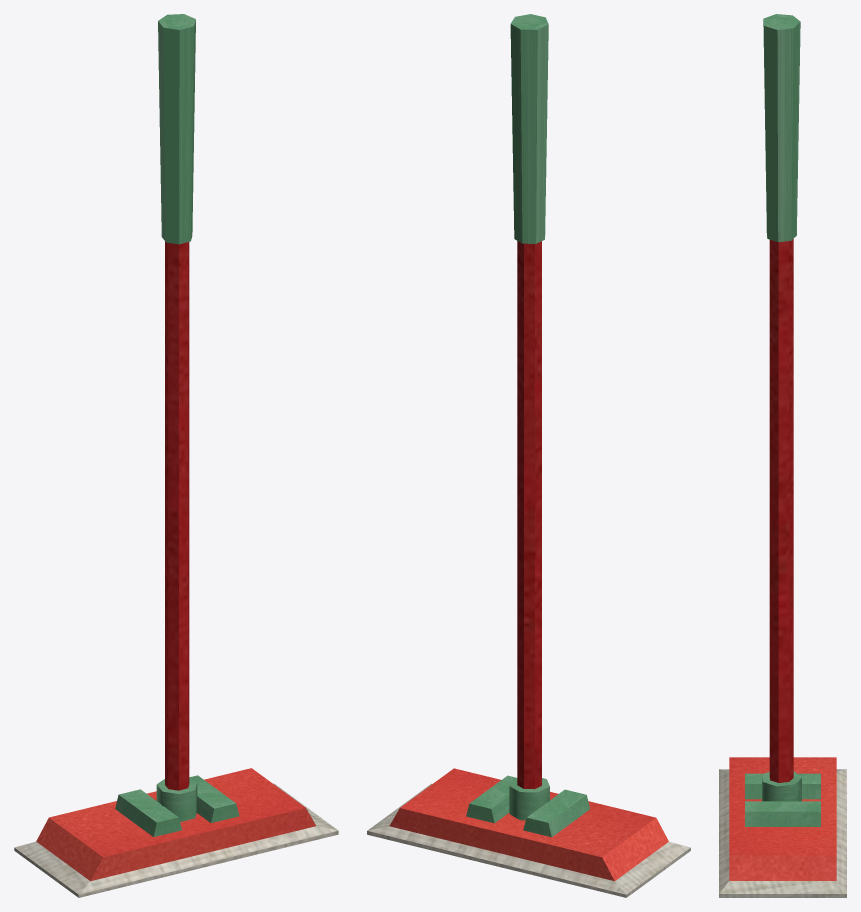
File: mop.FBX
The picture shows the model from 3 angles, left to right: view 1: azimuth 30°, elevation 25°; view 2: azimuth 150°, elevation 25°; view 3: azimuth 270°, elevation 25°; orthographic projection.
Visible parts, largest first — view 1: Cylinder001, Object004, Object002, Box001, Object003, Object001; view 2: Cylinder001, Object004, Object002, Box001, Object003, Object001; view 3: Cylinder001, Object004, Object002, Box001, Object003, Object001.
Part boxes in pixels (x1=…): Cylinder001: x1=165, y1=241, x2=189, y2=790; Object004: x1=36, y1=768, x2=315, y2=881; Object002: x1=158, y1=14, x2=195, y2=244; Box001: x1=14, y1=783, x2=338, y2=897; Object003: x1=115, y1=775, x2=239, y2=836; Object001: x1=156, y1=779, x2=197, y2=821; Cylinder001: x1=517, y1=241, x2=541, y2=789; Object004: x1=389, y1=768, x2=668, y2=881; Object002: x1=510, y1=14, x2=548, y2=243; Box001: x1=367, y1=783, x2=690, y2=897; Object003: x1=466, y1=775, x2=589, y2=837; Object001: x1=509, y1=778, x2=549, y2=820; Cylinder001: x1=769, y1=239, x2=793, y2=782; Object004: x1=729, y1=757, x2=836, y2=880; Object002: x1=763, y1=14, x2=800, y2=242; Box001: x1=719, y1=769, x2=846, y2=897; Object003: x1=745, y1=773, x2=820, y2=826; Object001: x1=762, y1=771, x2=801, y2=801.
Size of the model in its own units: 67.03 by 202 by 28.83.
Materials: 4 (4 with a texture image).
